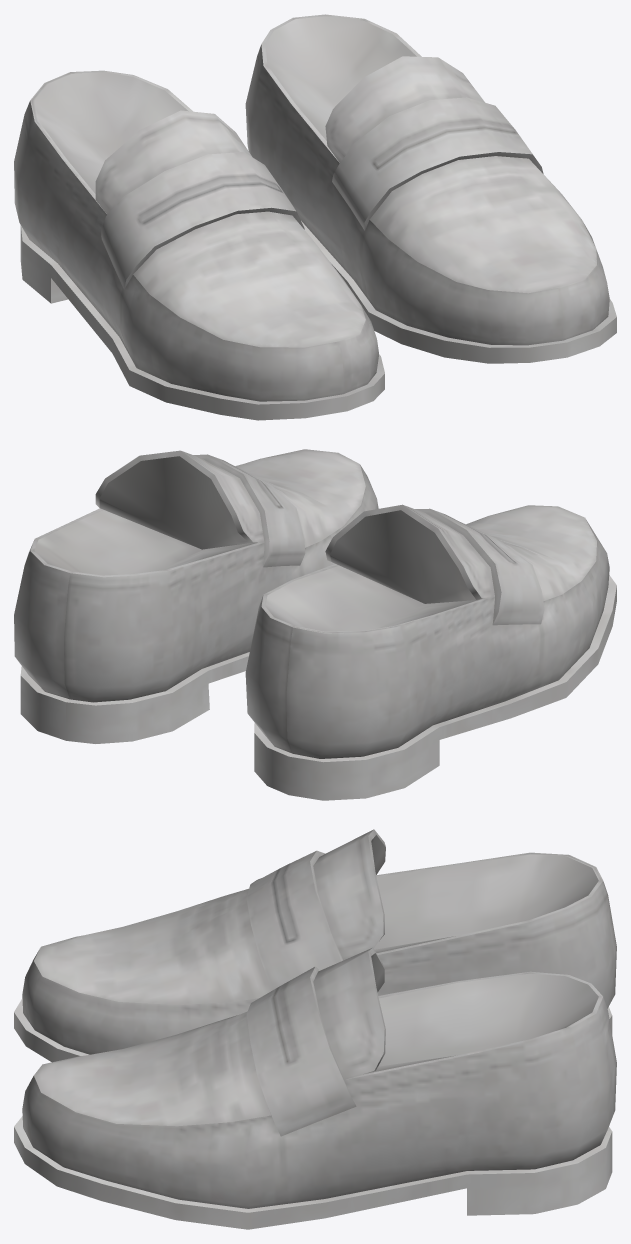
Rendered from p0_ftw0008_00_ftw00.gltf.
3 renders of one model, top to bottom at view 1: azimuth 30°, elevation 25°; view 2: azimuth 150°, elevation 25°; view 3: azimuth 270°, elevation 25°, orthographic. The views are drawn at different scales.
Parts seen in each view (by area): view 1: ftw00_shoes_mesh_shape:shoes; view 2: ftw00_shoes_mesh_shape:shoes; view 3: ftw00_shoes_mesh_shape:shoes.
Part boxes in pixels (x1,y1,x2,y2): ftw00_shoes_mesh_shape:shoes: (14,14,616,420); ftw00_shoes_mesh_shape:shoes: (14,449,616,800); ftw00_shoes_mesh_shape:shoes: (14,829,616,1229).
Size of what is drawn, in the model's own units: 0.2297 by 0.1045 by 0.2571.
Materials: 1 (1 with a texture image).
